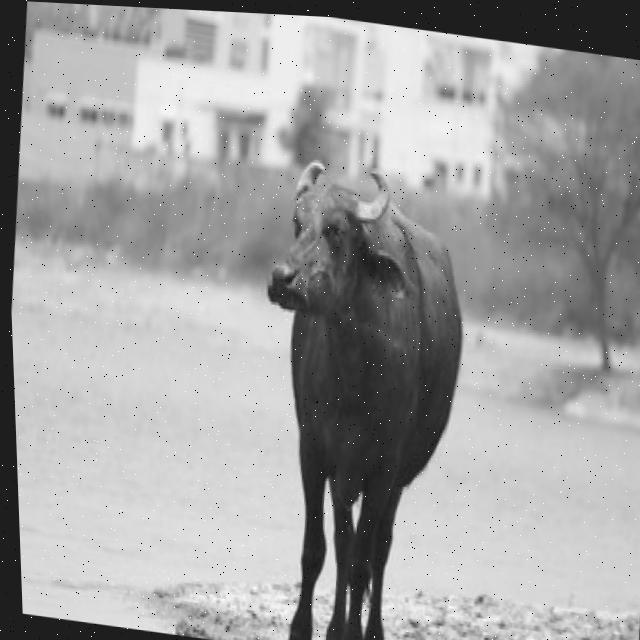Buffalo: (226, 145, 490, 640)
